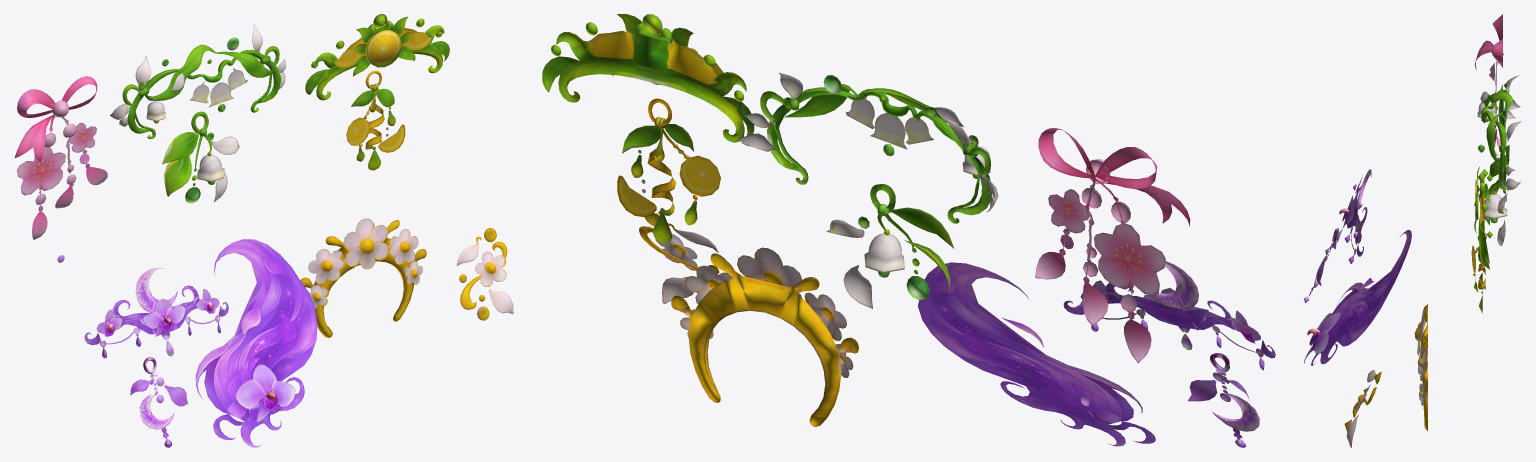
Rendered from floral_crown.glb.
3 renders of one model, left to right at view 1: azimuth 30°, elevation 25°; view 2: azimuth 150°, elevation 25°; view 3: azimuth 270°, elevation 25°, orthographic. The views are drawn at different scales.
Visible parts, largest first — view 1: tripo_node_c0ddcc45-7431-48e5-9000-8edd9bd408b2; view 2: tripo_node_c0ddcc45-7431-48e5-9000-8edd9bd408b2; view 3: tripo_node_c0ddcc45-7431-48e5-9000-8edd9bd408b2.
Part boxes in pixels (box(x1,y1,x2,y2)): tripo_node_c0ddcc45-7431-48e5-9000-8edd9bd408b2: box(14, 14, 513, 447); tripo_node_c0ddcc45-7431-48e5-9000-8edd9bd408b2: box(542, 14, 1275, 447); tripo_node_c0ddcc45-7431-48e5-9000-8edd9bd408b2: box(1304, 14, 1521, 447).
Size of the model in its own units: 0.9995 by 0.6792 by 0.4575.
1 material, 1 textured.
